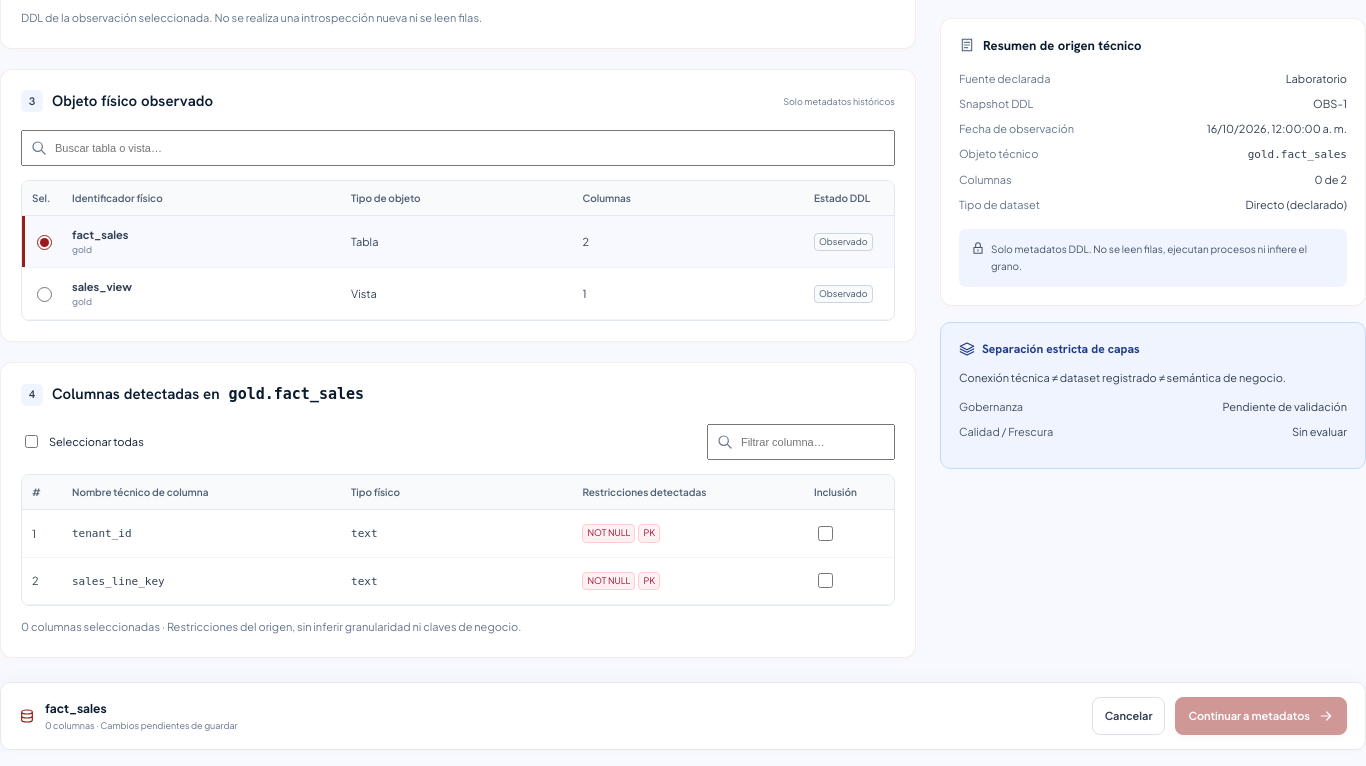
requires governance for registration but not for draft
The image size is (1366, 766).
(page scrolled)
Click the checkbox named "Seleccionar columna tenant_id".
click(826, 533)  # box [818, 526, 833, 541]
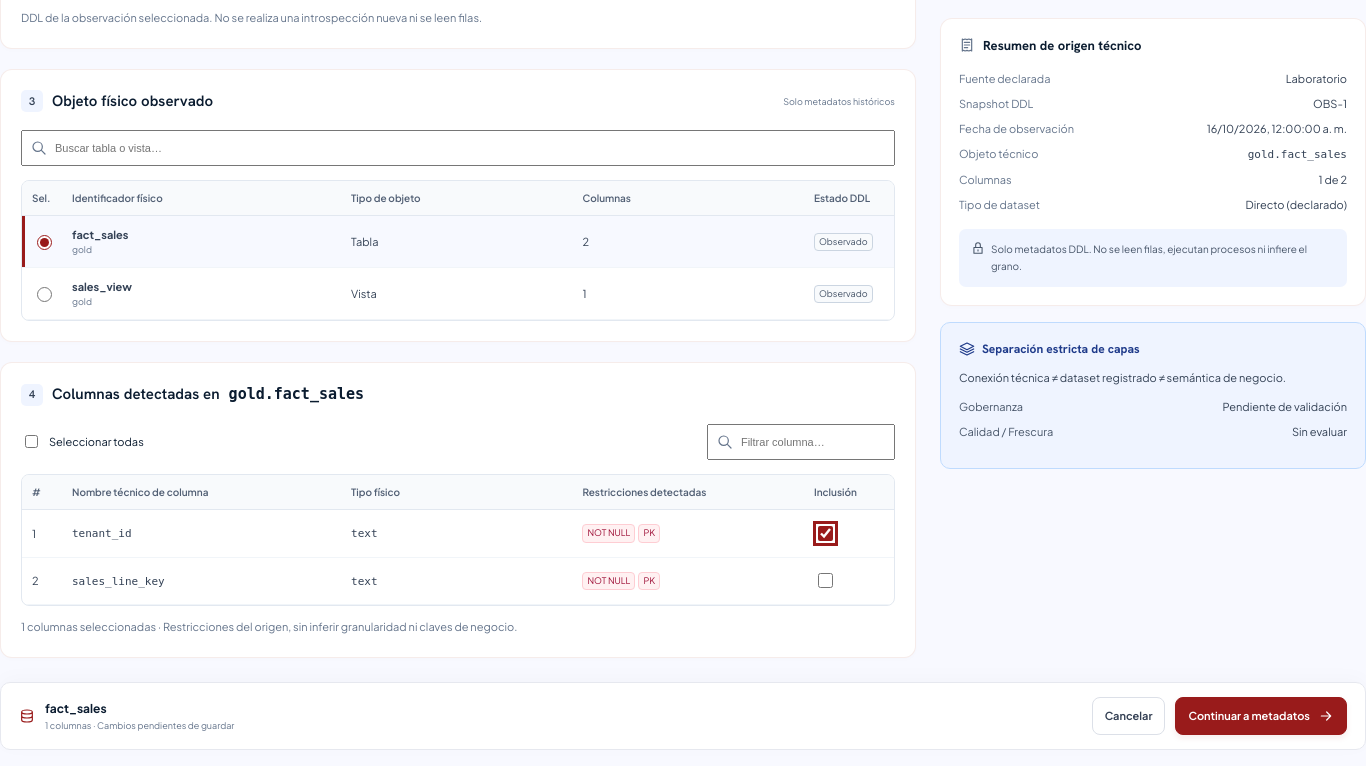
Click the button "Continuar a metadatos".
click(1261, 716)  # box [1176, 697, 1347, 735]
(page scrolled)
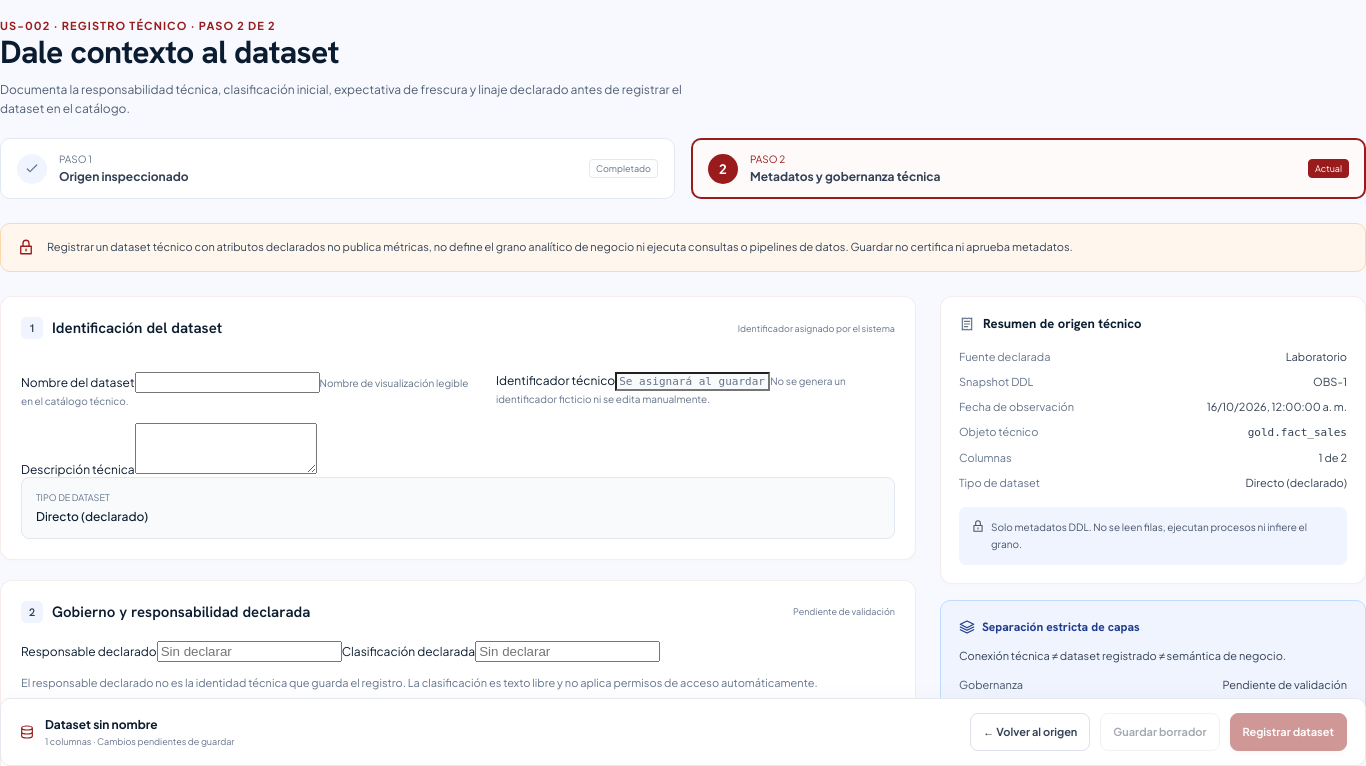
Type "Ventas nuevas" into the field labelled "Nombre del dataset".
click(227, 382); type("Ventas nuevas")  # box [134, 372, 320, 393]
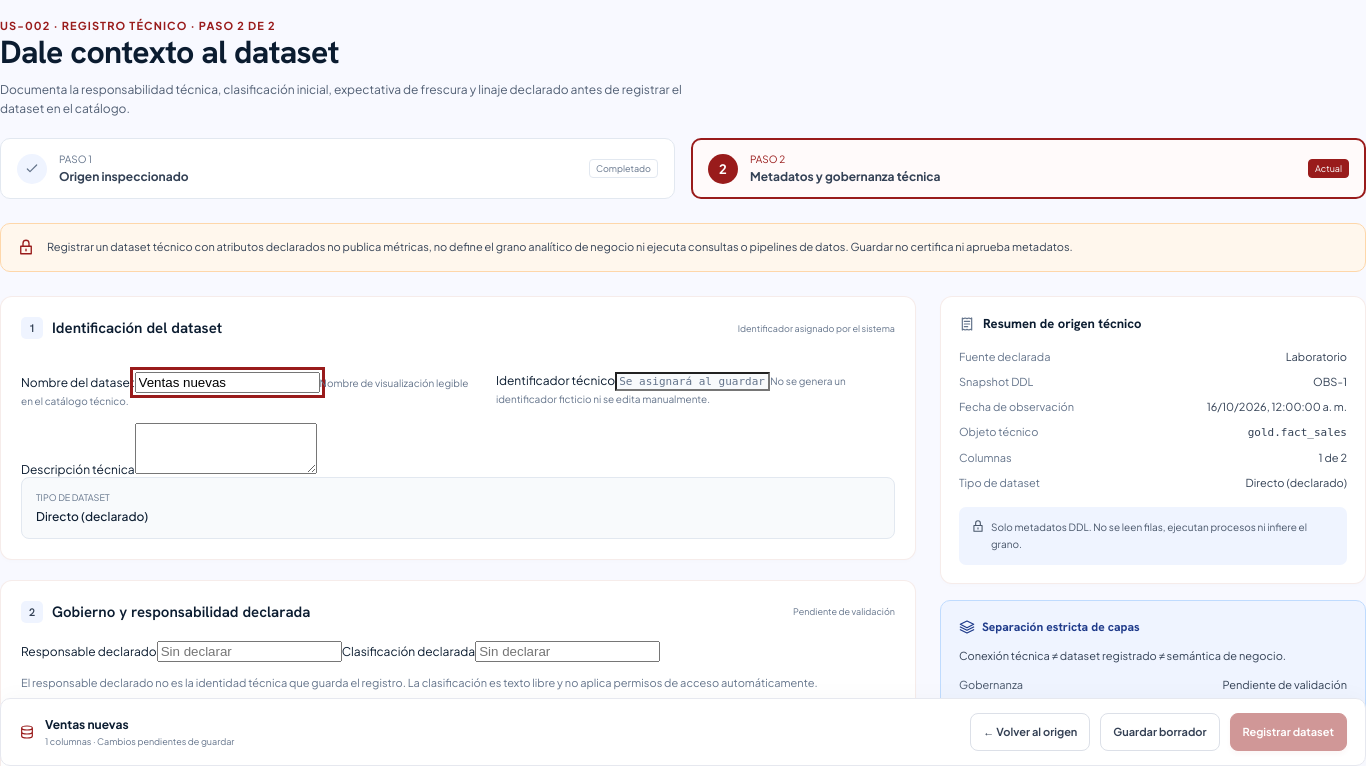
Now the button "Registrar dataset" is disabled, box [1230, 713, 1347, 751]
Type "Declarado" into the field labelled "Responsable declarado".
click(249, 652); type("Declarado")  # box [157, 641, 342, 662]
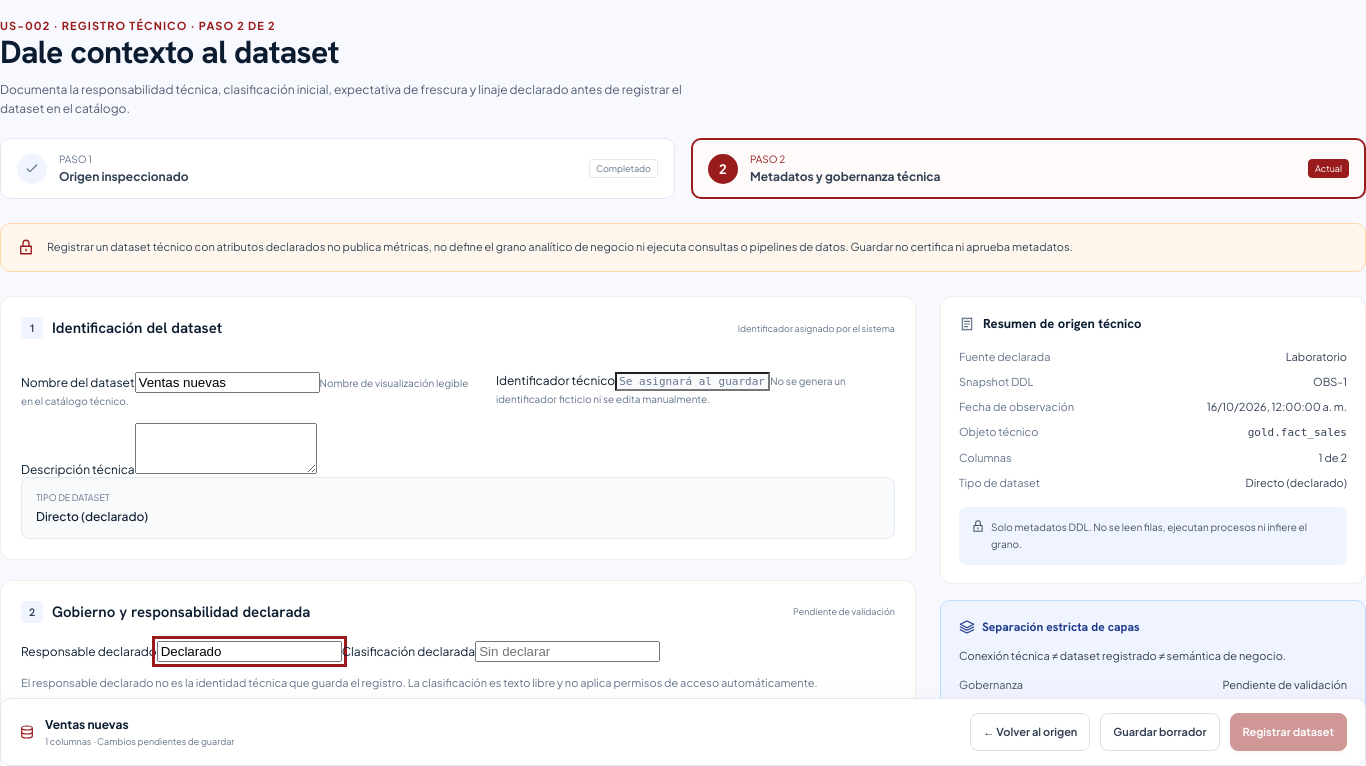
Type "Declarado" into the field labelled "Clasificación declarada".
click(568, 652); type("Declarado")  # box [475, 641, 660, 662]
(page scrolled)
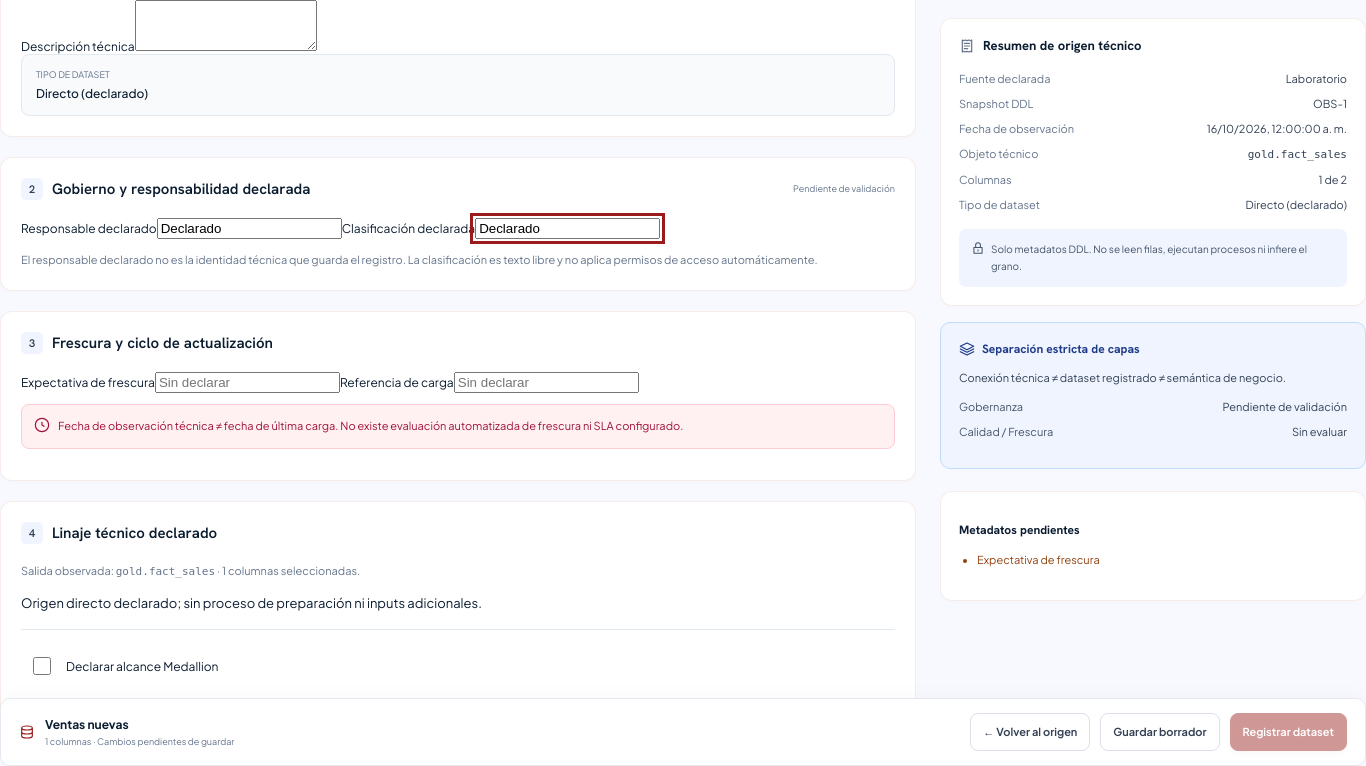
Type "Declarado" into the field labelled "Expectativa de frescura".
click(247, 383); type("Declarado")  # box [155, 372, 340, 393]
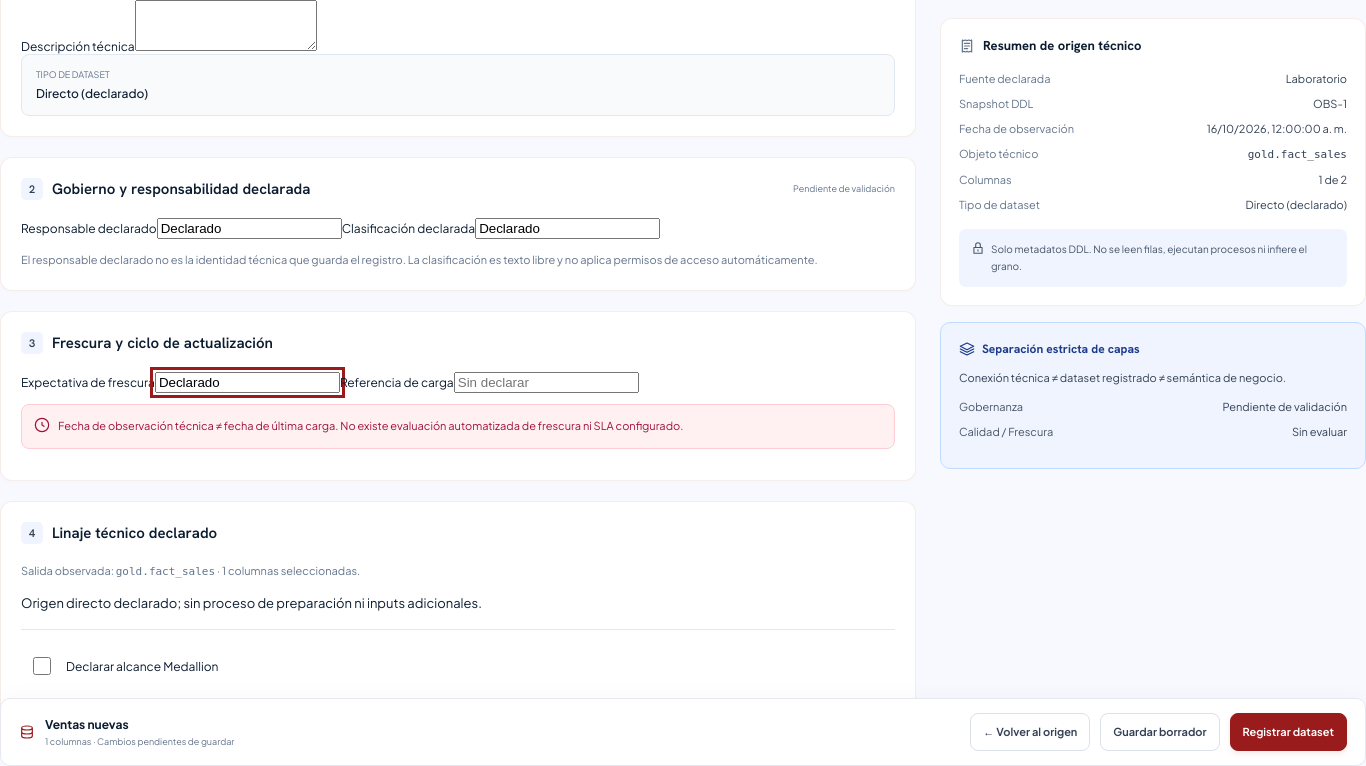
Now the button "Registrar dataset" is enabled, box [1230, 713, 1347, 751]
